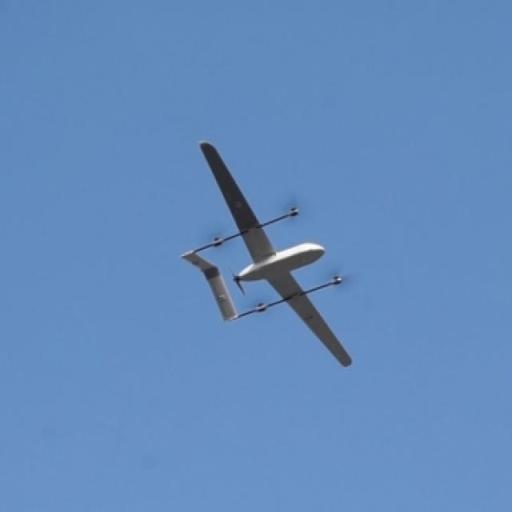uav: (126, 127, 376, 381)
